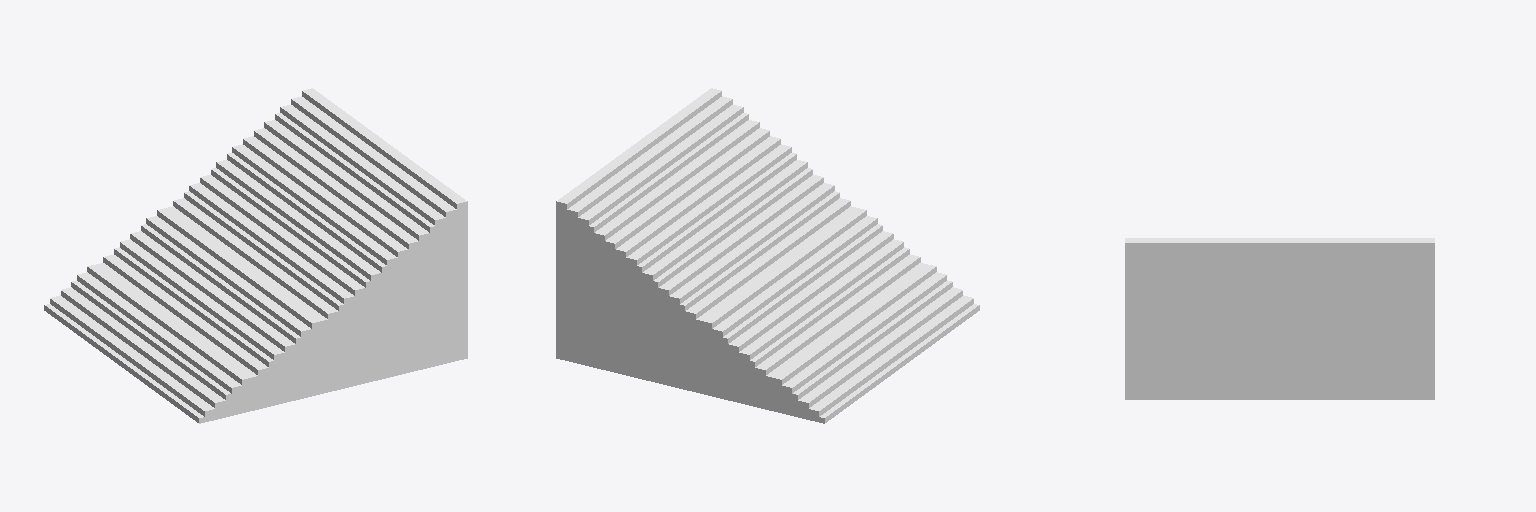
Rendered from springboard11.obj.
3 renders of one model, left to right at view 1: azimuth 30°, elevation 25°; view 2: azimuth 150°, elevation 25°; view 3: azimuth 270°, elevation 25°, orthographic.
Parts seen in each view (by area): view 1: object 1; view 2: object 1; view 3: object 1.
Boxes of the visible parts, x1=… form: object 1: x1=44, y1=88, x2=467, y2=423; object 1: x1=556, y1=88, x2=979, y2=423; object 1: x1=1125, y1=238, x2=1434, y2=399.
Bounding box in the file's own units: 5 × 2.8 × 5.